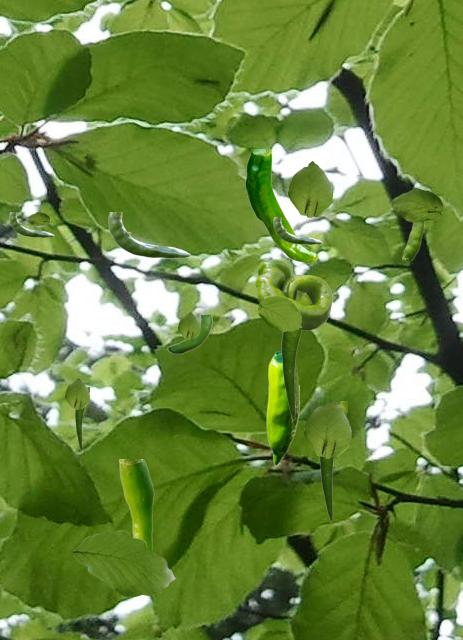green_chili: (245, 149, 317, 262), (255, 259, 331, 329), (108, 212, 189, 257), (266, 351, 298, 464), (281, 293, 309, 419), (119, 459, 154, 551), (319, 401, 346, 520), (167, 315, 211, 353), (273, 217, 321, 243), (9, 212, 53, 236), (402, 222, 424, 259), (75, 387, 88, 449)
